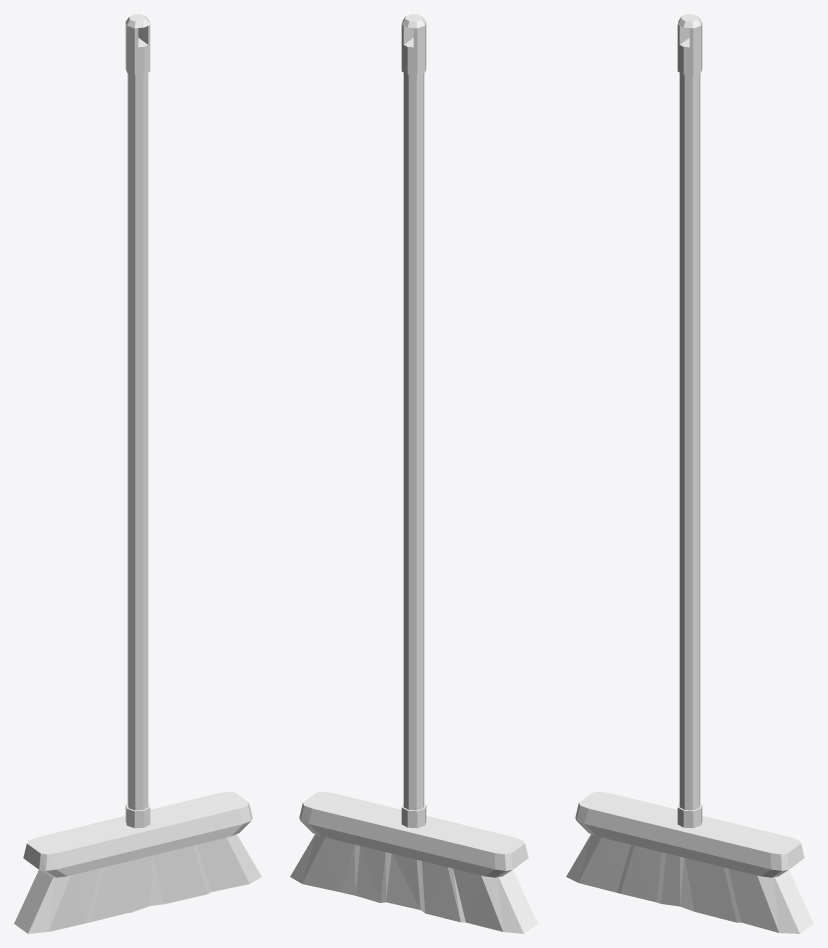
File: Tool_Broom_03.glb
The picture shows the model from 3 angles, left to right: view 1: azimuth 30°, elevation 25°; view 2: azimuth 150°, elevation 25°; view 3: azimuth 330°, elevation 25°; orthographic projection.
Visible parts, largest first — view 1: Tool_Broom_03; view 2: Tool_Broom_03; view 3: Tool_Broom_03.
Part boxes in pixels (x1,y1,x2,y2): Tool_Broom_03: (14, 14, 261, 933); Tool_Broom_03: (290, 14, 537, 933); Tool_Broom_03: (566, 14, 813, 933).
Size of the model in its own units: 0.474 by 1.71 by 0.0842.
1 material, 1 textured.
